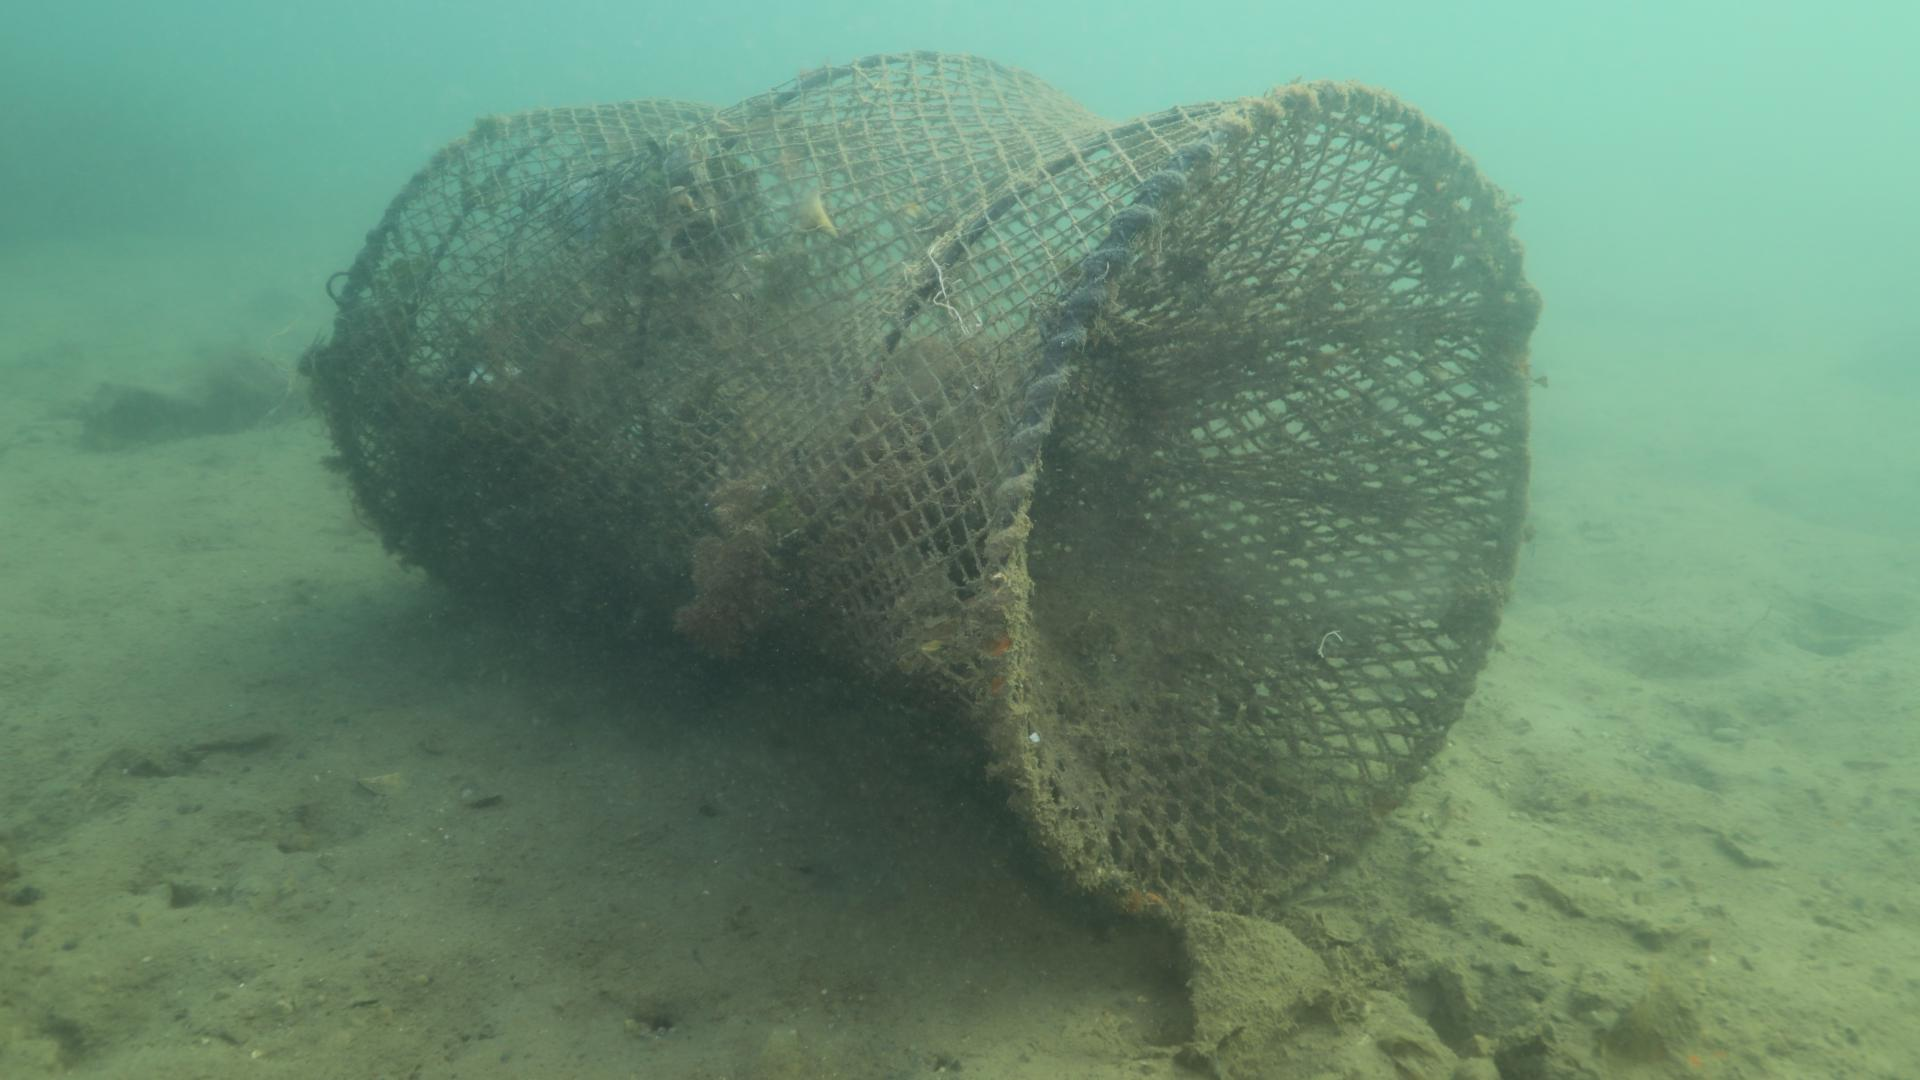spring fish trap: (326, 44, 1528, 934)
